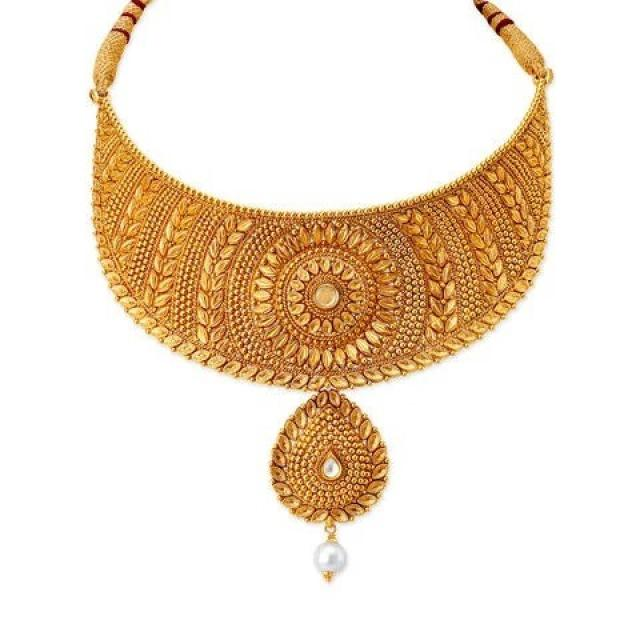missing gem: (315, 285, 336, 306)
